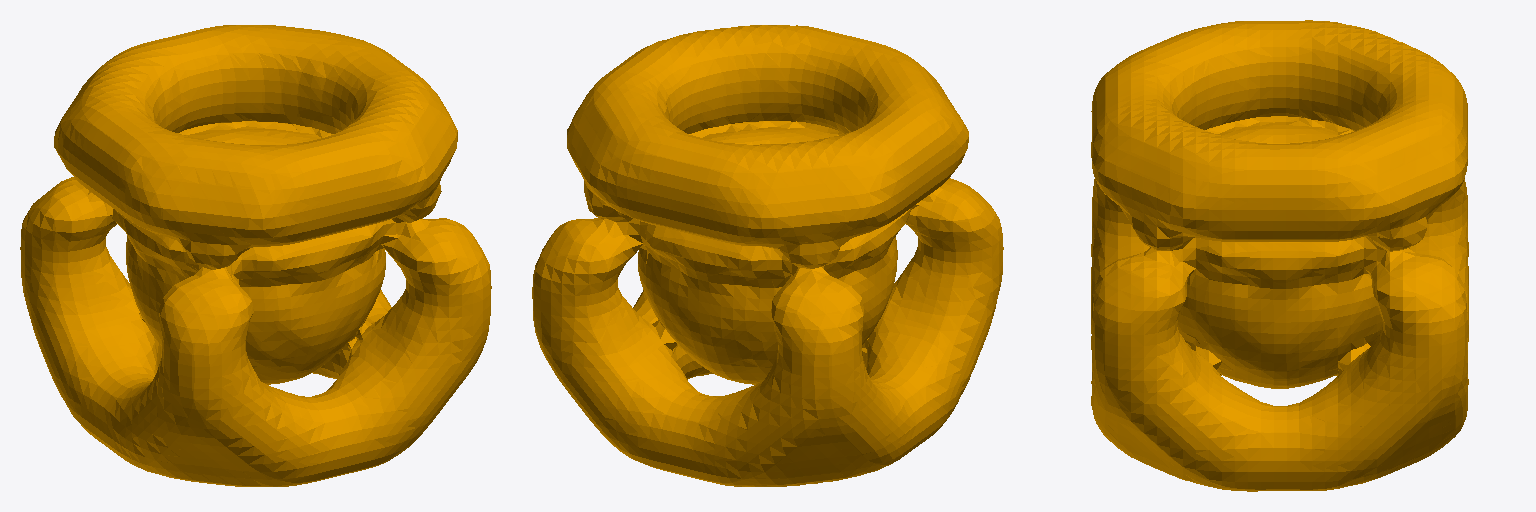
The robot description file, URDF, robot "object":
<?xml version="1.0"?>
<robot name="object">
  <link name="object">
    <visual>
      <origin xyz="0 0 0"/>
      <geometry>
        <mesh filename="meshes/subset_100_scaled/egad_N12_1_s.obj" scale=".03 .03 .03"/>
      </geometry>
    </visual>
    <collision>
  <origin xyz="0 0 0"/>
  <geometry>
    <mesh filename="meshes/subset_100_scaled/egad_N12_1_s_0decompose.obj" scale=".03 .03 .03"/>
<!--          <mesh filename="meshes/custom/obj0_ball.obj" scale=".05 .05 .05"/>-->
  </geometry>
</collision><collision>
  <origin xyz="0 0 0"/>
  <geometry>
    <mesh filename="meshes/subset_100_scaled/egad_N12_1_s_1decompose.obj" scale=".03 .03 .03"/>
<!--          <mesh filename="meshes/custom/obj0_ball.obj" scale=".05 .05 .05"/>-->
  </geometry>
</collision><collision>
  <origin xyz="0 0 0"/>
  <geometry>
    <mesh filename="meshes/subset_100_scaled/egad_N12_1_s_2decompose.obj" scale=".03 .03 .03"/>
<!--          <mesh filename="meshes/custom/obj0_ball.obj" scale=".05 .05 .05"/>-->
  </geometry>
</collision><collision>
  <origin xyz="0 0 0"/>
  <geometry>
    <mesh filename="meshes/subset_100_scaled/egad_N12_1_s_3decompose.obj" scale=".03 .03 .03"/>
<!--          <mesh filename="meshes/custom/obj0_ball.obj" scale=".05 .05 .05"/>-->
  </geometry>
</collision><collision>
  <origin xyz="0 0 0"/>
  <geometry>
    <mesh filename="meshes/subset_100_scaled/egad_N12_1_s_4decompose.obj" scale=".03 .03 .03"/>
<!--          <mesh filename="meshes/custom/obj0_ball.obj" scale=".05 .05 .05"/>-->
  </geometry>
</collision><collision>
  <origin xyz="0 0 0"/>
  <geometry>
    <mesh filename="meshes/subset_100_scaled/egad_N12_1_s_5decompose.obj" scale=".03 .03 .03"/>
<!--          <mesh filename="meshes/custom/obj0_ball.obj" scale=".05 .05 .05"/>-->
  </geometry>
</collision><collision>
  <origin xyz="0 0 0"/>
  <geometry>
    <mesh filename="meshes/subset_100_scaled/egad_N12_1_s_6decompose.obj" scale=".03 .03 .03"/>
<!--          <mesh filename="meshes/custom/obj0_ball.obj" scale=".05 .05 .05"/>-->
  </geometry>
</collision><collision>
  <origin xyz="0 0 0"/>
  <geometry>
    <mesh filename="meshes/subset_100_scaled/egad_N12_1_s_7decompose.obj" scale=".03 .03 .03"/>
<!--          <mesh filename="meshes/custom/obj0_ball.obj" scale=".05 .05 .05"/>-->
  </geometry>
</collision><collision>
  <origin xyz="0 0 0"/>
  <geometry>
    <mesh filename="meshes/subset_100_scaled/egad_N12_1_s_8decompose.obj" scale=".03 .03 .03"/>
<!--          <mesh filename="meshes/custom/obj0_ball.obj" scale=".05 .05 .05"/>-->
  </geometry>
</collision><collision>
  <origin xyz="0 0 0"/>
  <geometry>
    <mesh filename="meshes/subset_100_scaled/egad_N12_1_s_9decompose.obj" scale=".03 .03 .03"/>
<!--          <mesh filename="meshes/custom/obj0_ball.obj" scale=".05 .05 .05"/>-->
  </geometry>
</collision><collision>
  <origin xyz="0 0 0"/>
  <geometry>
    <mesh filename="meshes/subset_100_scaled/egad_N12_1_s_10decompose.obj" scale=".03 .03 .03"/>
<!--          <mesh filename="meshes/custom/obj0_ball.obj" scale=".05 .05 .05"/>-->
  </geometry>
</collision><collision>
  <origin xyz="0 0 0"/>
  <geometry>
    <mesh filename="meshes/subset_100_scaled/egad_N12_1_s_11decompose.obj" scale=".03 .03 .03"/>
<!--          <mesh filename="meshes/custom/obj0_ball.obj" scale=".05 .05 .05"/>-->
  </geometry>
</collision><collision>
  <origin xyz="0 0 0"/>
  <geometry>
    <mesh filename="meshes/subset_100_scaled/egad_N12_1_s_12decompose.obj" scale=".03 .03 .03"/>
<!--          <mesh filename="meshes/custom/obj0_ball.obj" scale=".05 .05 .05"/>-->
  </geometry>
</collision><collision>
  <origin xyz="0 0 0"/>
  <geometry>
    <mesh filename="meshes/subset_100_scaled/egad_N12_1_s_13decompose.obj" scale=".03 .03 .03"/>
<!--          <mesh filename="meshes/custom/obj0_ball.obj" scale=".05 .05 .05"/>-->
  </geometry>
</collision>

<!--    <collision>-->
<!--      <origin xyz="0 0 0"/>-->
<!--      <geometry>-->
<!--        <mesh filename="meshes/subset_100_scaled/egad_N12_1_s.obj" scale=".03 .03 .03"/>-->
<!--&lt;!&ndash;          <mesh filename="meshes/custom/obj0_ball.obj" scale=".05 .05 .05"/>&ndash;&gt;-->
<!--      </geometry>-->
<!--    </collision>-->
    <inertial>
      <density value="1000.0"/>
    </inertial>
  </link>
</robot>

--- Facts derived from the render (not from the file) ---
The picture shows the robot from 3 angles, left to right: view 1: azimuth 30°, elevation 25°; view 2: azimuth 150°, elevation 25°; view 3: azimuth 270°, elevation 25°; orthographic projection.
Robot: object — 1 links, 0 joints (none); root link object; default pose: all joints at 0.
Visible links, largest first — view 1: object; view 2: object; view 3: object.
Link boxes in pixels (<box>): object: <box>20,25,491,486</box>; object: <box>532,25,1003,486</box>; object: <box>1091,20,1468,491</box>.
Bounding box of the posed robot: 0.06 × 0.06 × 0.06 m (x, y, z).
1 mesh visuals loaded from 1 distinct referenced files (1 OBJ).
